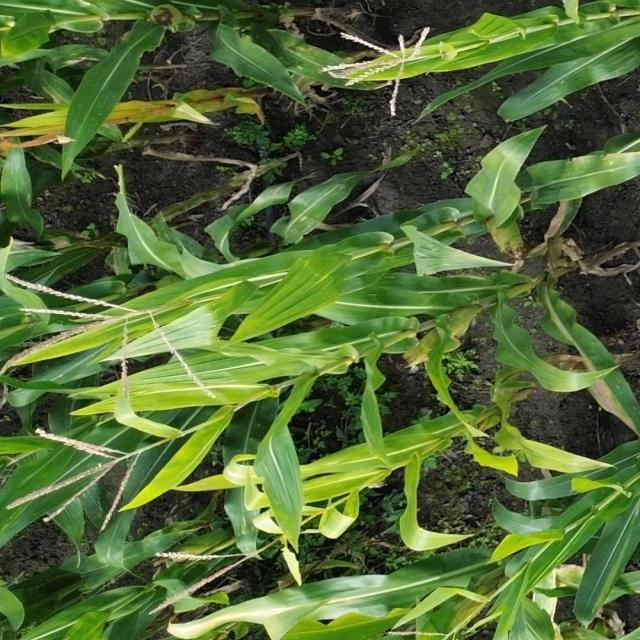gray-leaf-spot: (294, 184, 348, 224), (283, 38, 337, 76), (24, 62, 66, 105), (229, 508, 265, 543), (80, 482, 110, 522), (51, 45, 105, 63), (151, 215, 183, 245)
northern-leaf-blight: (564, 336, 620, 407), (255, 182, 288, 207)
southern-leaf-blight: (70, 98, 110, 132)
